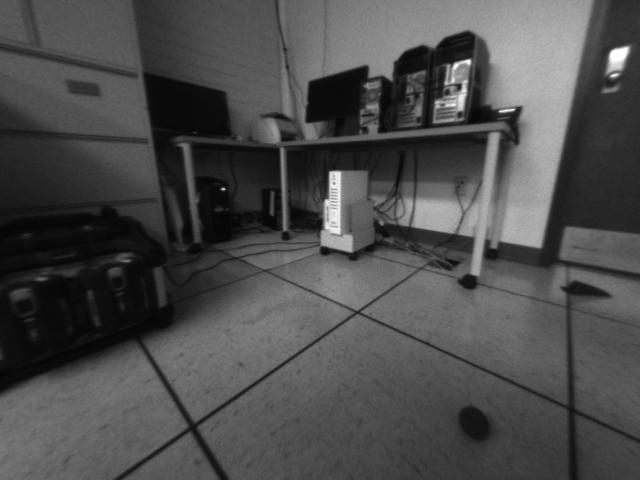dogtoy: (449, 393, 502, 451)
